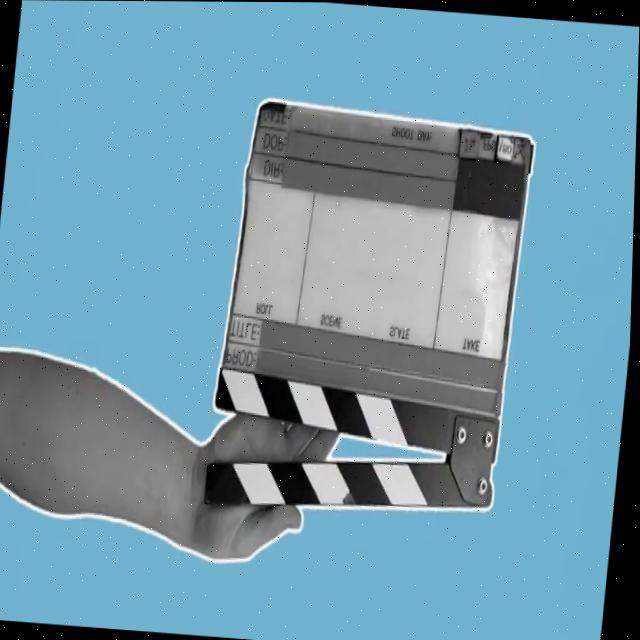Clapperboard: (201, 99, 533, 510)
